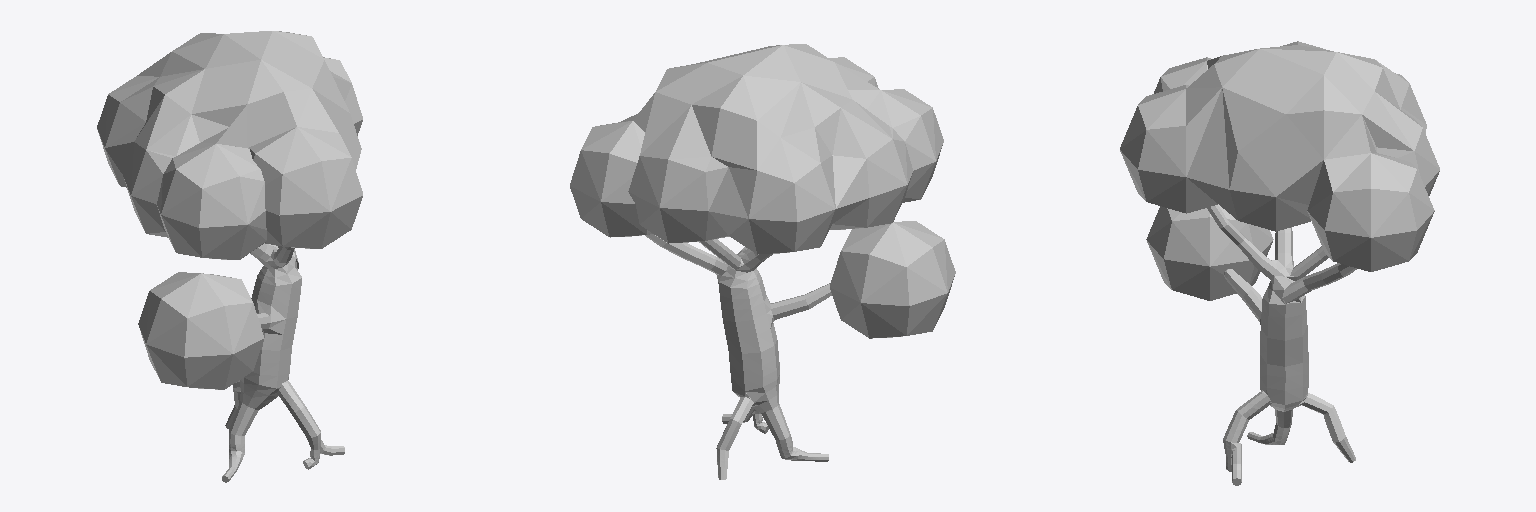
The model's file is runtree.obj.
3 renders of one model, left to right at view 1: azimuth 30°, elevation 25°; view 2: azimuth 150°, elevation 25°; view 3: azimuth 270°, elevation 25°, orthographic.
Visible parts, largest first — view 1: Mesh_0; view 2: Mesh_0; view 3: Mesh_0.
Boxes of the visible parts, box(x1,y1,x2,y2) form: Mesh_0: box(97, 31, 362, 482); Mesh_0: box(570, 44, 955, 479); Mesh_0: box(1120, 41, 1439, 485).
Bounding box in the file's own units: 0.6882 × 0.9303 × 0.66.